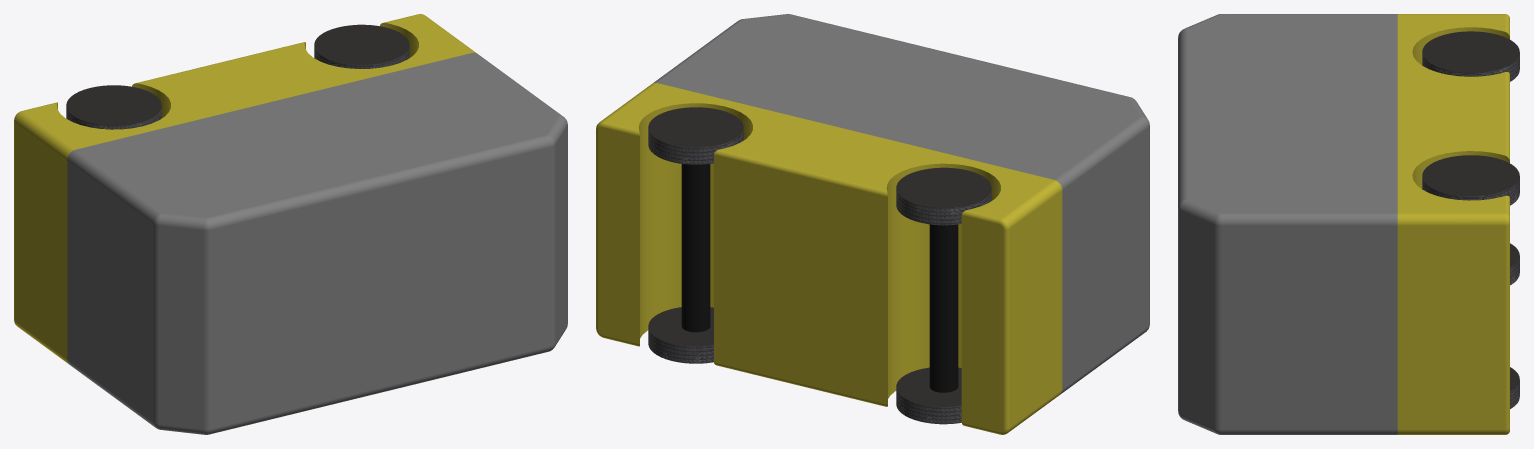
File: agv.glb
3 renders of one model, left to right at view 1: azimuth 30°, elevation 25°; view 2: azimuth 150°, elevation 25°; view 3: azimuth 270°, elevation 25°, orthographic. The views are drawn at different scales.
Visible parts, largest first — view 1: agv; view 2: agv; view 3: agv.
Boxes of the visible parts, x1,y1,x2,y2 form: agv: [14, 14, 567, 434]; agv: [596, 14, 1149, 434]; agv: [1178, 14, 1519, 434].
Bounding box in the file's own units: 0.5 × 0.25 × 0.35.
Materials: 5 (3 with a texture image).
